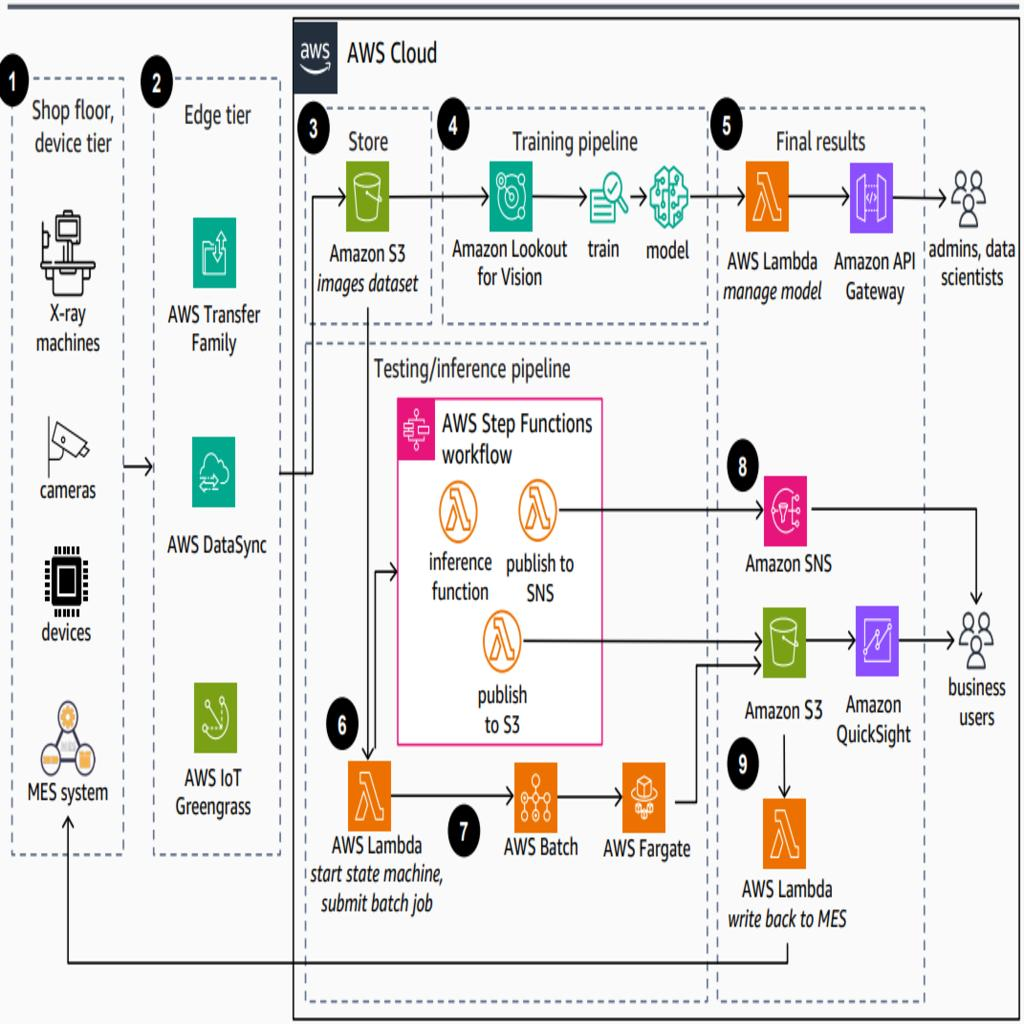actor: (42, 224, 85, 292), (42, 419, 85, 486), (42, 542, 85, 609), (42, 706, 85, 773), (943, 170, 986, 236), (943, 610, 986, 676)
api_gateway: (851, 170, 894, 236)
compute: (744, 170, 788, 236), (840, 610, 884, 676), (759, 798, 802, 865), (192, 214, 234, 282), (192, 432, 234, 500), (342, 768, 385, 834), (513, 768, 556, 834), (192, 682, 234, 748), (486, 170, 528, 236), (622, 768, 664, 834), (436, 484, 472, 540), (526, 484, 562, 540), (482, 615, 518, 671)
data_flow: (66, 960, 928, 965), (691, 510, 972, 514), (366, 272, 371, 486), (515, 510, 759, 514), (61, 809, 66, 963), (366, 518, 371, 660), (637, 745, 760, 750), (234, 443, 356, 448), (518, 640, 608, 646), (778, 716, 783, 804), (876, 640, 943, 646), (558, 798, 620, 804), (385, 798, 444, 804), (390, 200, 439, 206), (895, 200, 944, 206), (677, 200, 720, 206), (803, 640, 846, 646), (120, 448, 126, 480)
database_storage: (347, 170, 390, 236), (759, 610, 802, 676)
network_security: (759, 478, 802, 546)
trust_boundary: (294, 20, 927, 1004), (305, 356, 709, 986), (704, 356, 934, 986), (144, 75, 282, 853), (5, 75, 122, 853), (396, 394, 603, 744), (704, 102, 934, 330), (459, 102, 688, 330), (295, 102, 442, 330)
